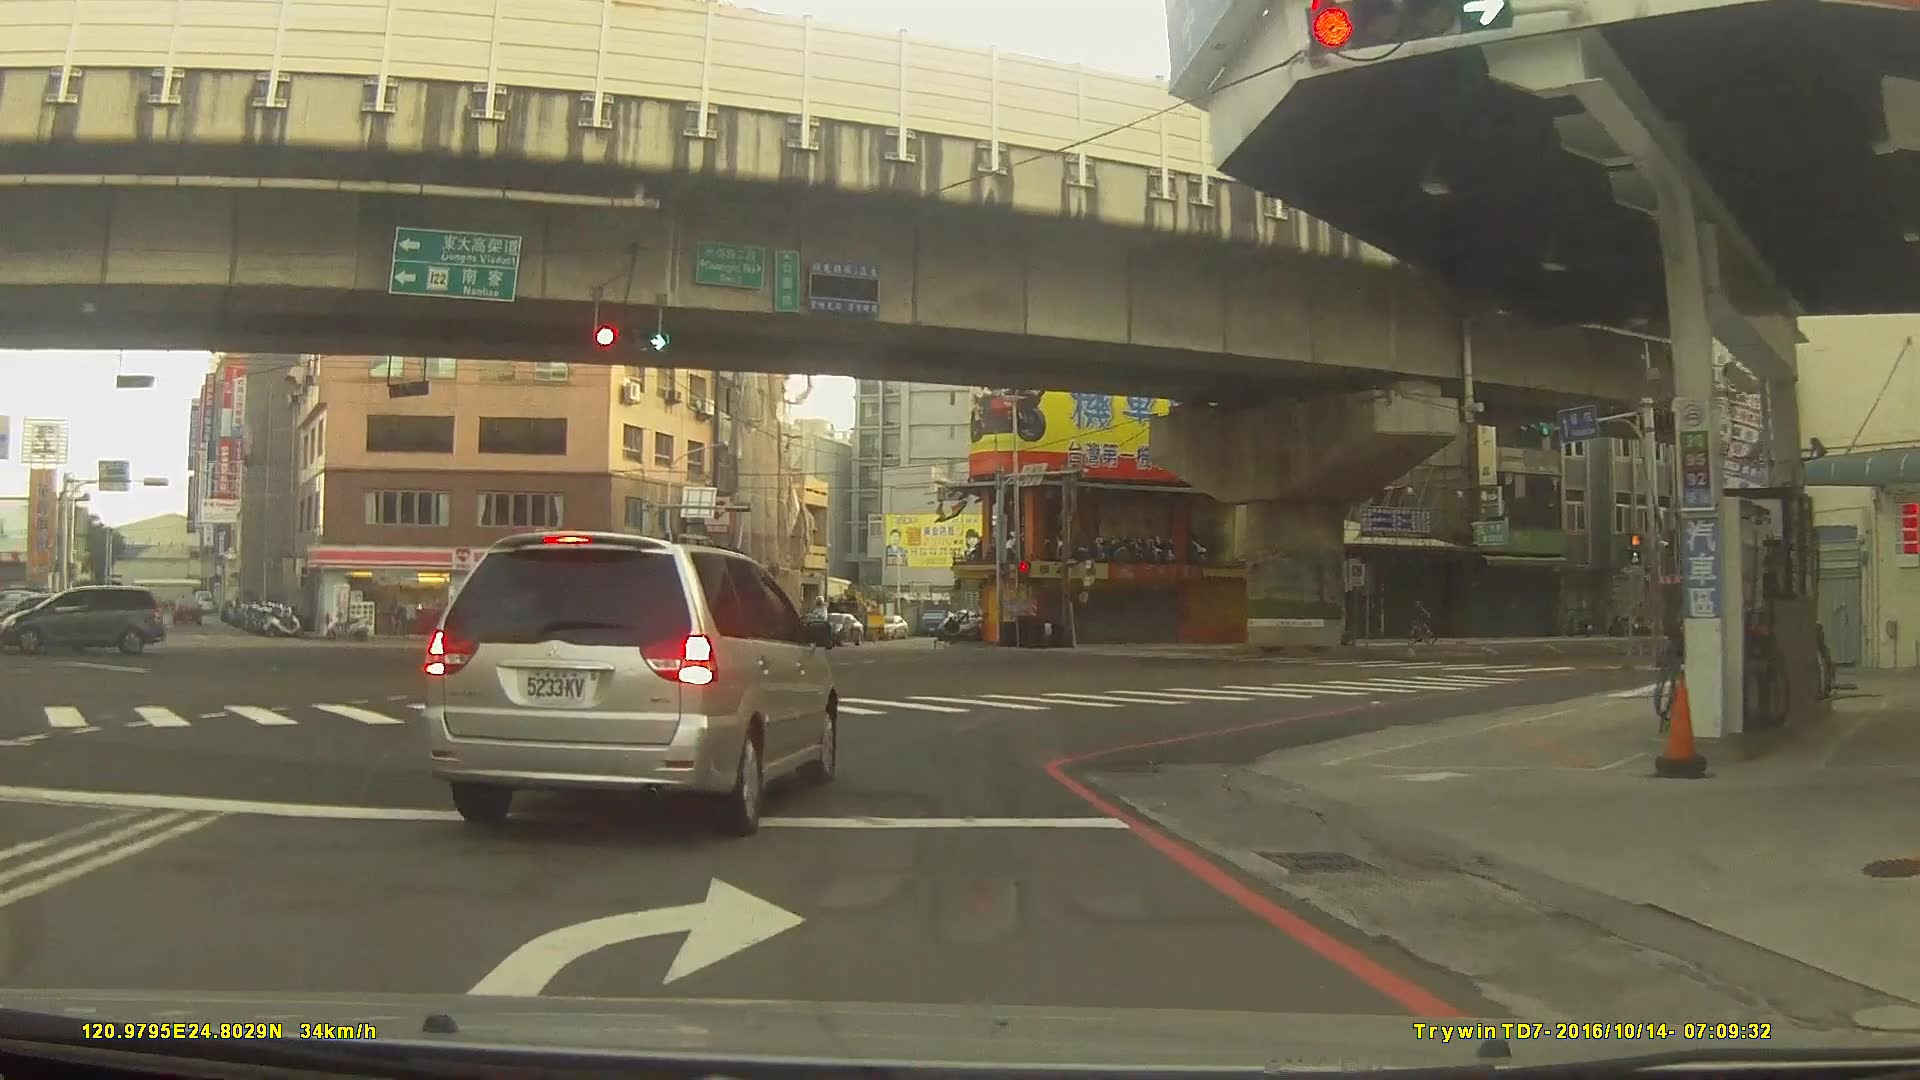rider: (777, 597, 834, 647)
vehicle: (426, 530, 840, 835), (2, 584, 162, 654), (805, 612, 867, 648), (543, 606, 605, 633), (169, 596, 202, 628)
